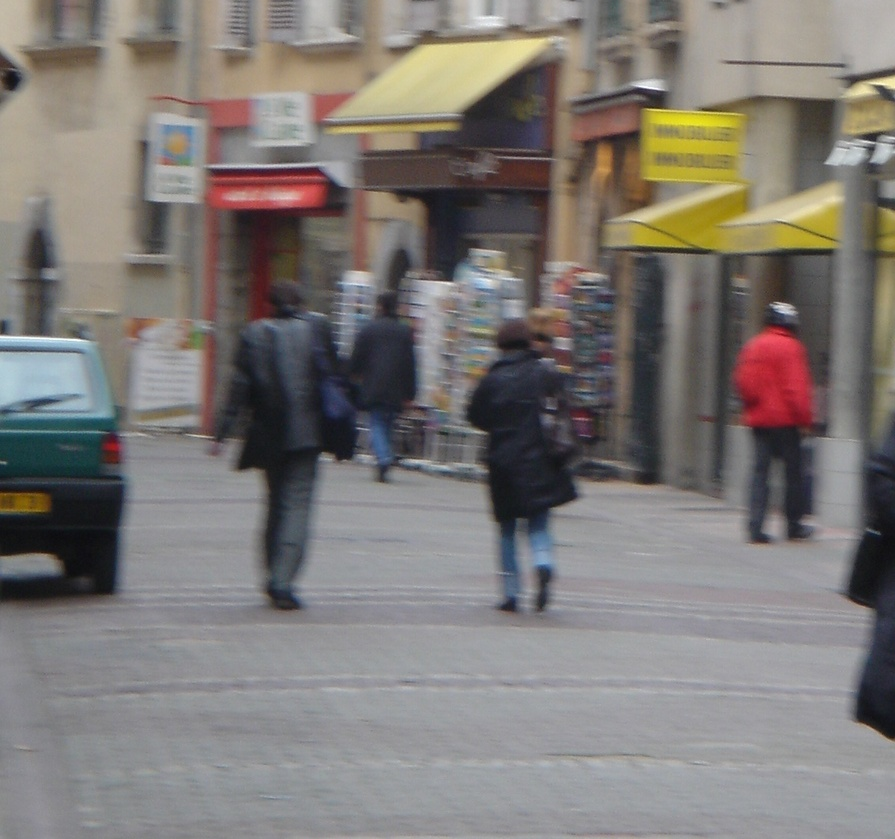person: (239, 280, 334, 611), (477, 315, 573, 613), (736, 294, 816, 545), (352, 284, 418, 482)
